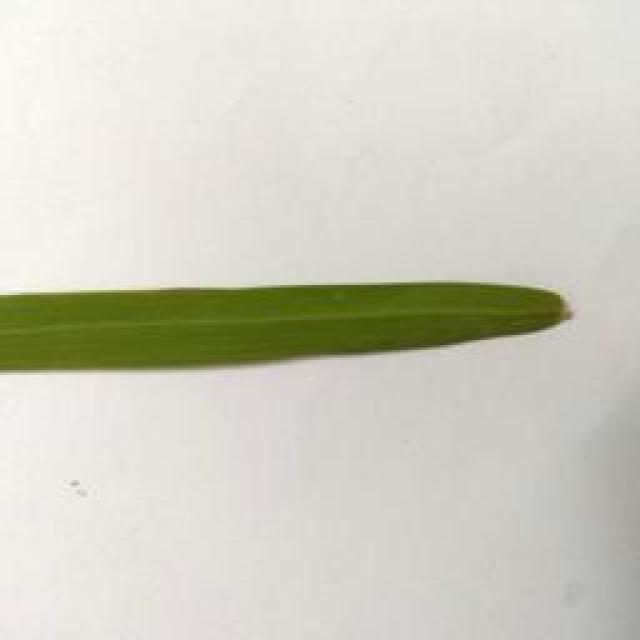Healthy-Plant: (0, 282, 586, 371)
